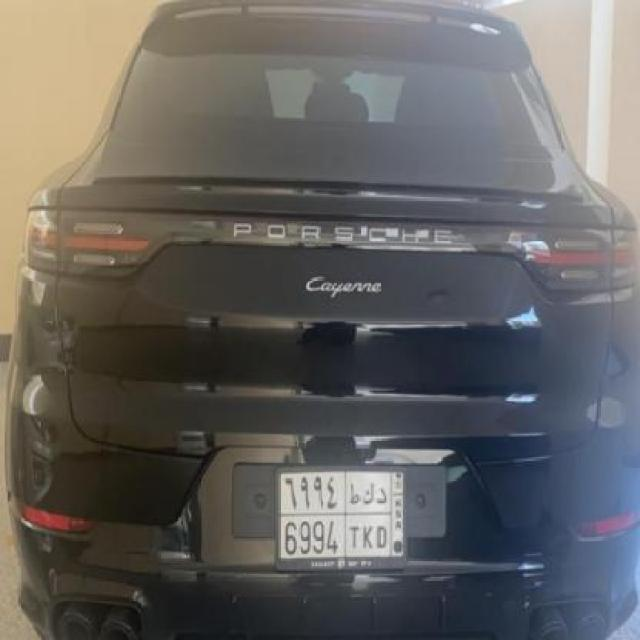license_plate: (277, 468, 408, 564)
